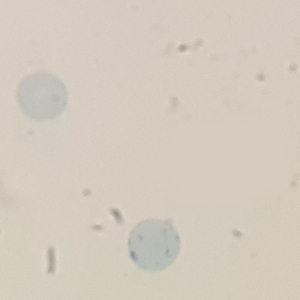aggregate reticulocyte: (126, 217, 183, 274)
erythrocyte: (15, 71, 70, 123)
